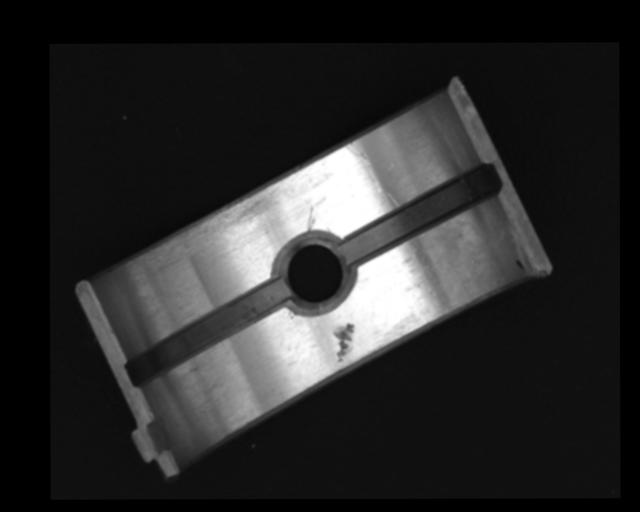blot: (513, 258, 529, 274)
bruise: (335, 322, 355, 362)
gap: (127, 278, 290, 384), (340, 165, 498, 262)
hole: (274, 236, 353, 313)
nick: (345, 143, 383, 196), (307, 206, 316, 231)
scratch: (137, 184, 279, 270)
